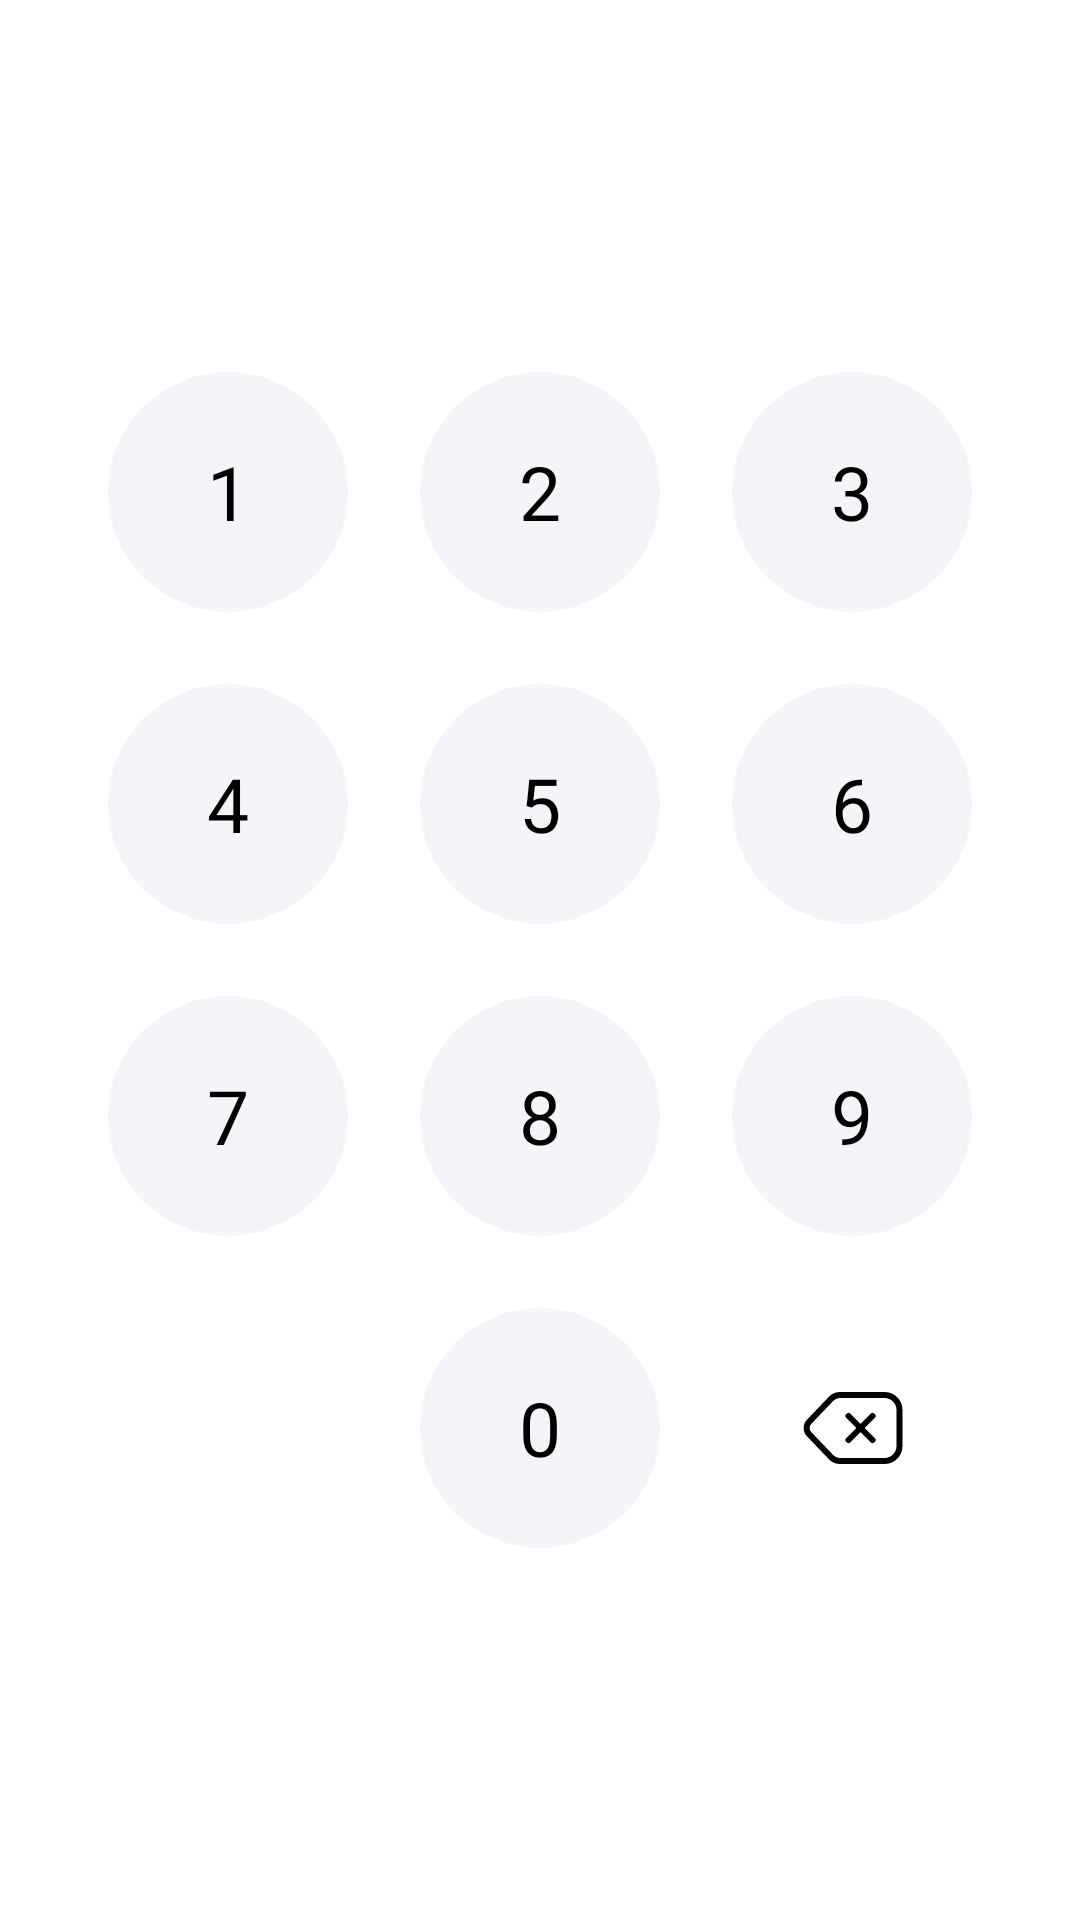

Icon bounding boxes for this 1080 x 1920 phone screenshot, format (x1, y1, x2, y2):
del: (803, 1392, 903, 1464)
